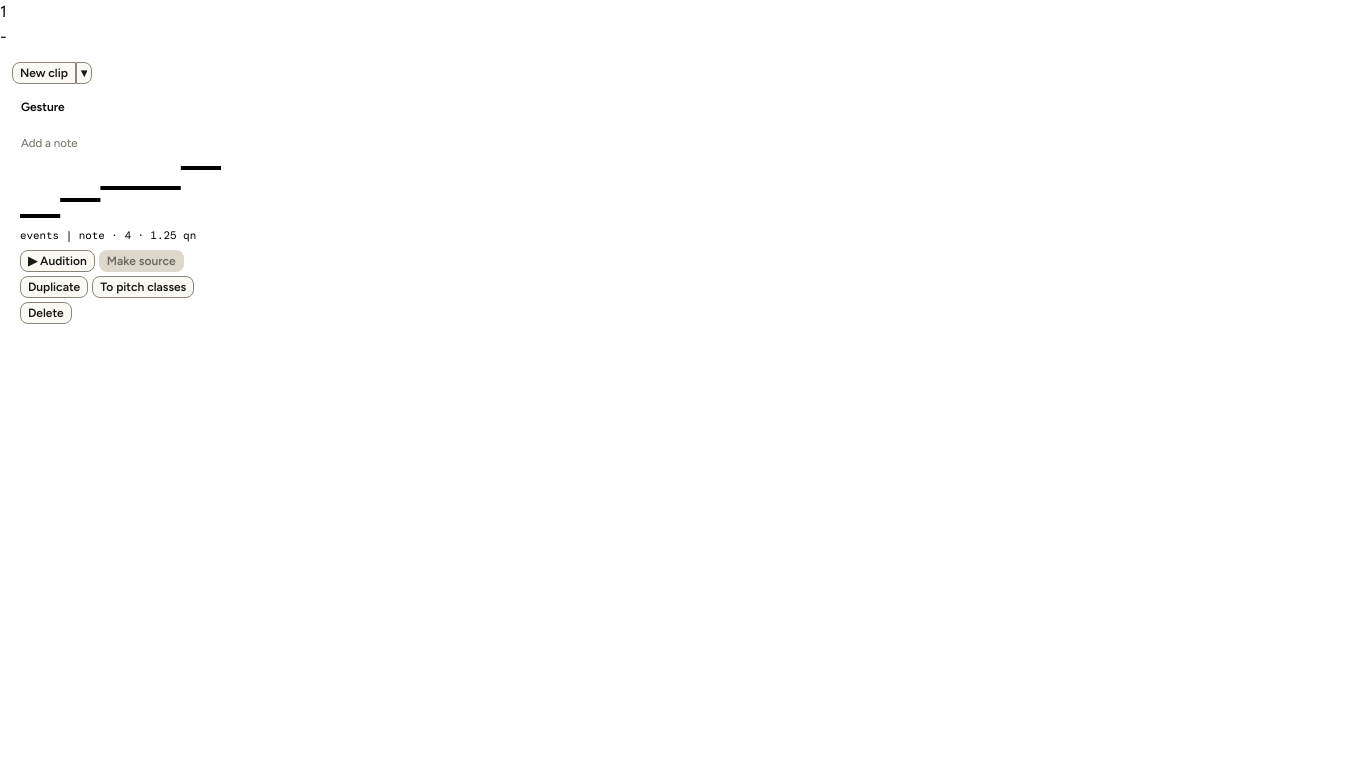
Test: DeskView pitch-class conversion › prompts when pitches are off the grid; Cancel leaves the desk unchanged
This screenshot has width=1366, height=768.
Click the button "To pitch classes".
click(143, 287)  # box [92,276,194,298]
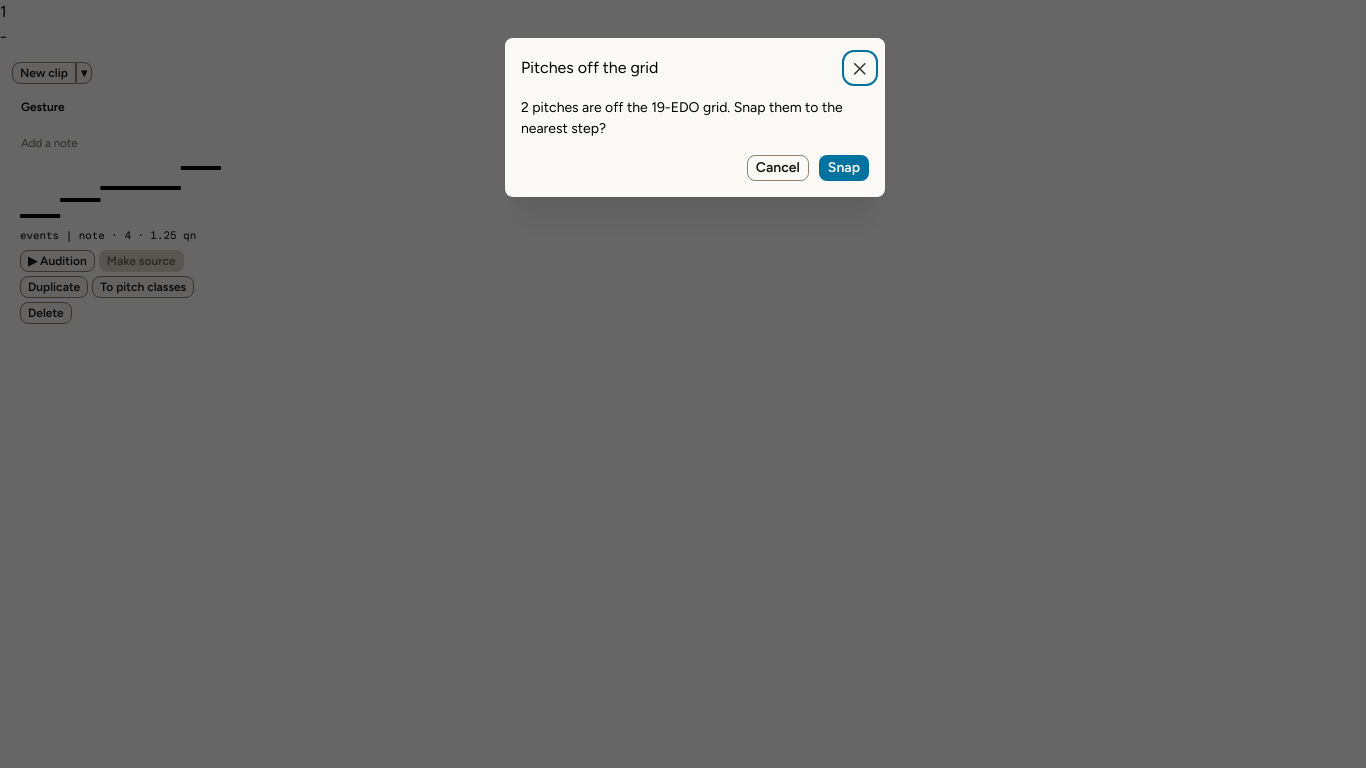
Expected: the text "2 pitches are off the 19-EDO grid. Snap them to the nearest step?" is shown, [521,98,869,139]
Click the button "Cancel".
click(778, 168)  # box [747,155,809,181]
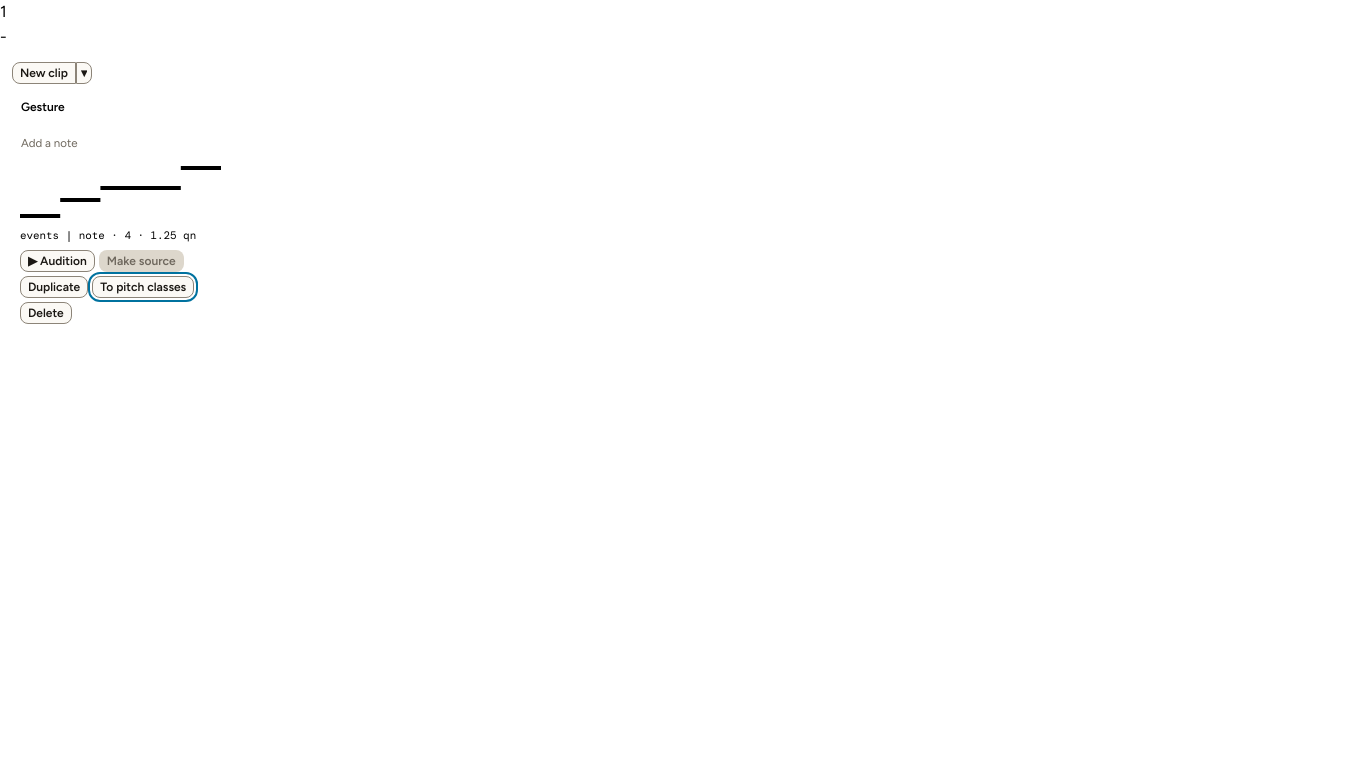
Expected: the text with test id "count" reads "1", [0,2,7,21]
Expected: the heading "Pitches off the grid" is gone
